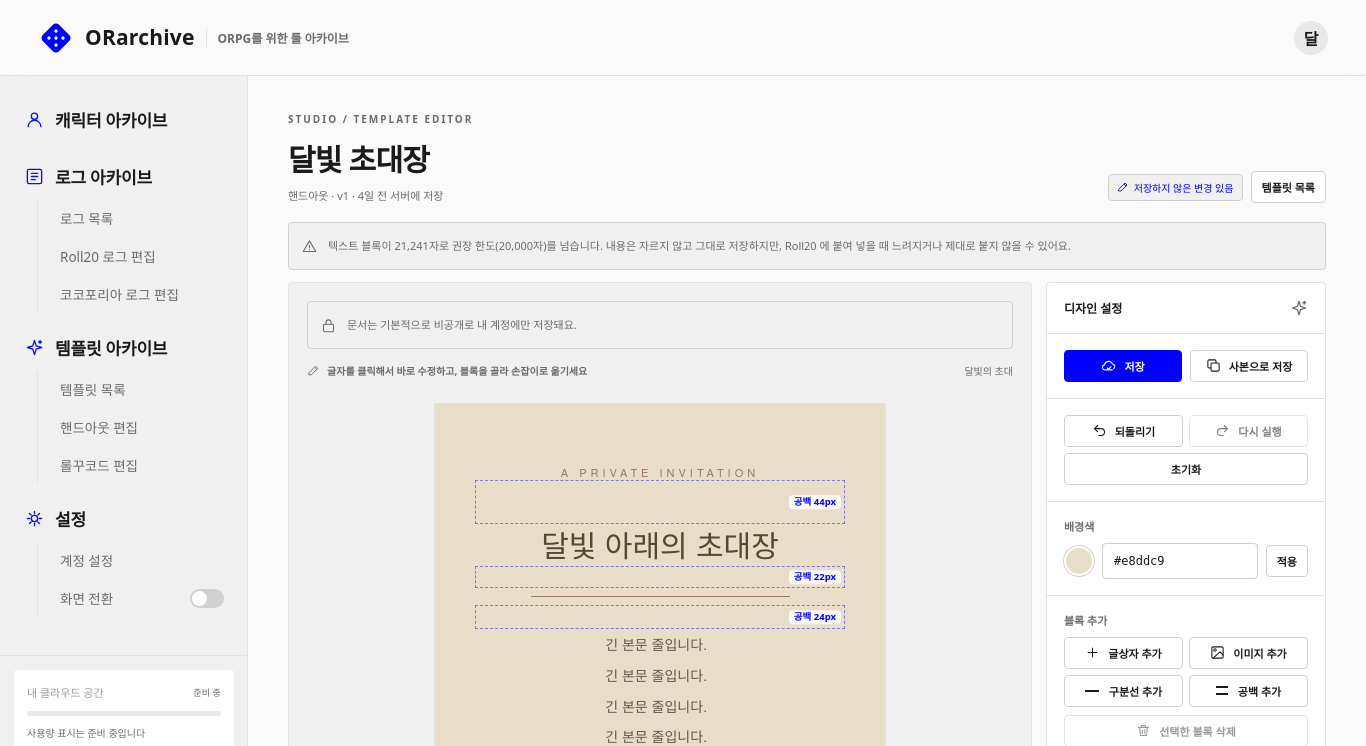
Test: 핸드아웃 스튜디오 — 긴 글 (화면 = 저장 값, 자르지 않음) › 동기화 비교는 글자 전체로: 앞 20,000자가 같고 뒤만 다른 서버 버전을 불러오면 화면도 바뀐다
The width and height of the screenshot is (1366, 746).
Earlier steps of the test are not shown.
Later steps or results of the test are not shown.
Click the button "저장" at [1123, 366], box x1=1064 y1=350 x2=1182 y2=382
Wait 800 ms
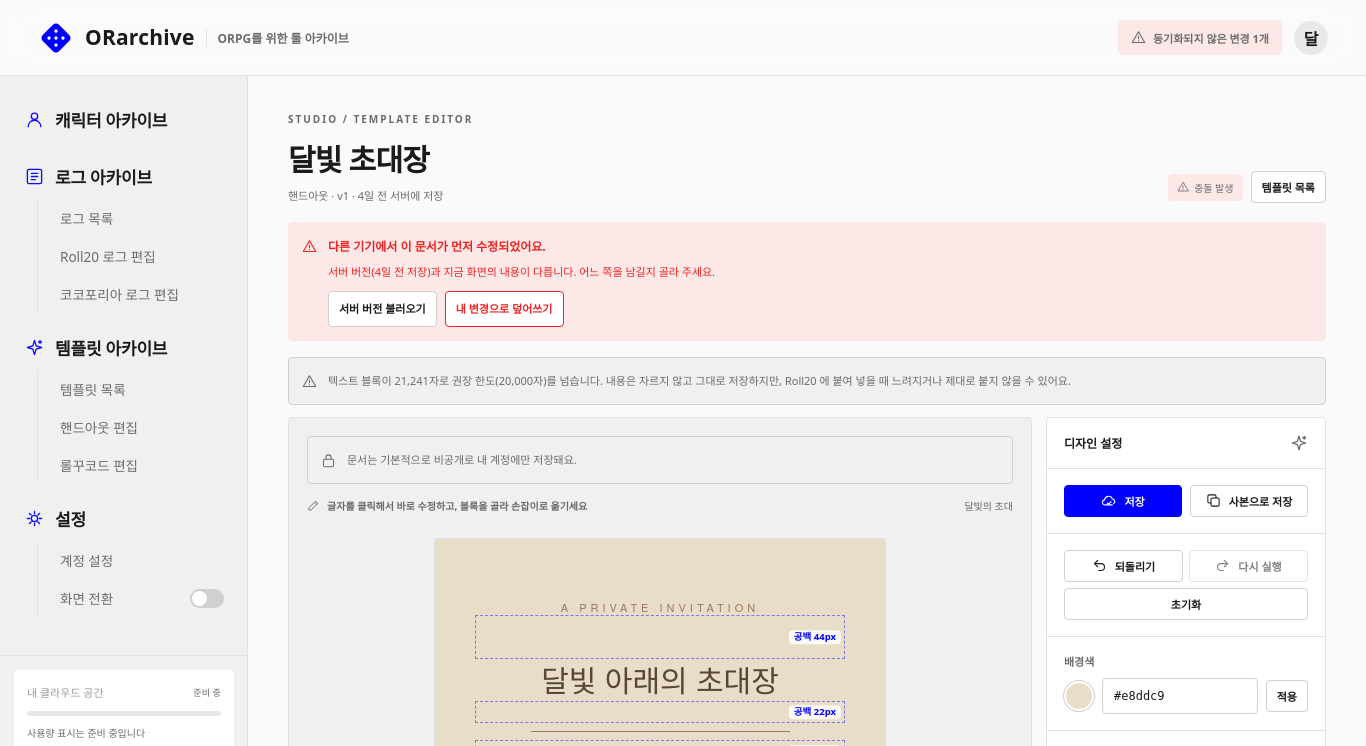
Expected: the message "충돌 발생" is shown, x1=1168 y1=174 x2=1242 y2=200
